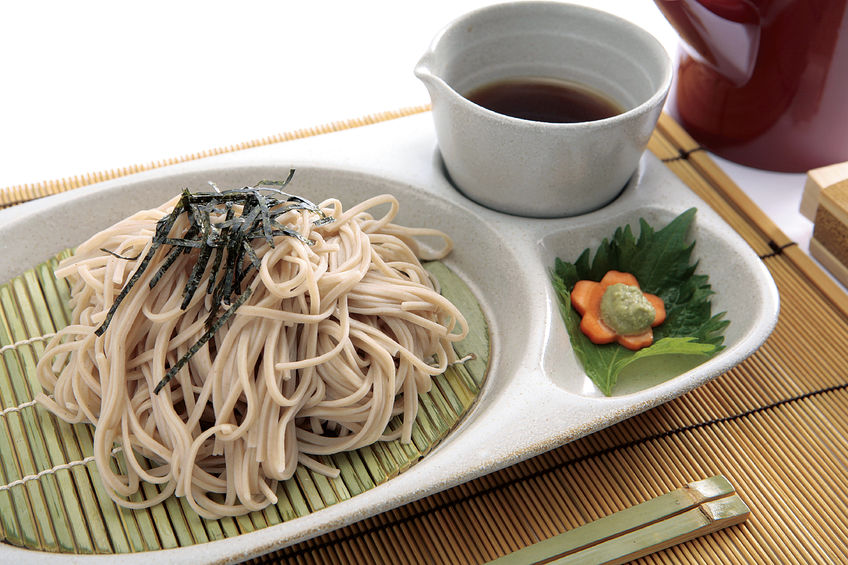Soba: (53, 186, 480, 519)
